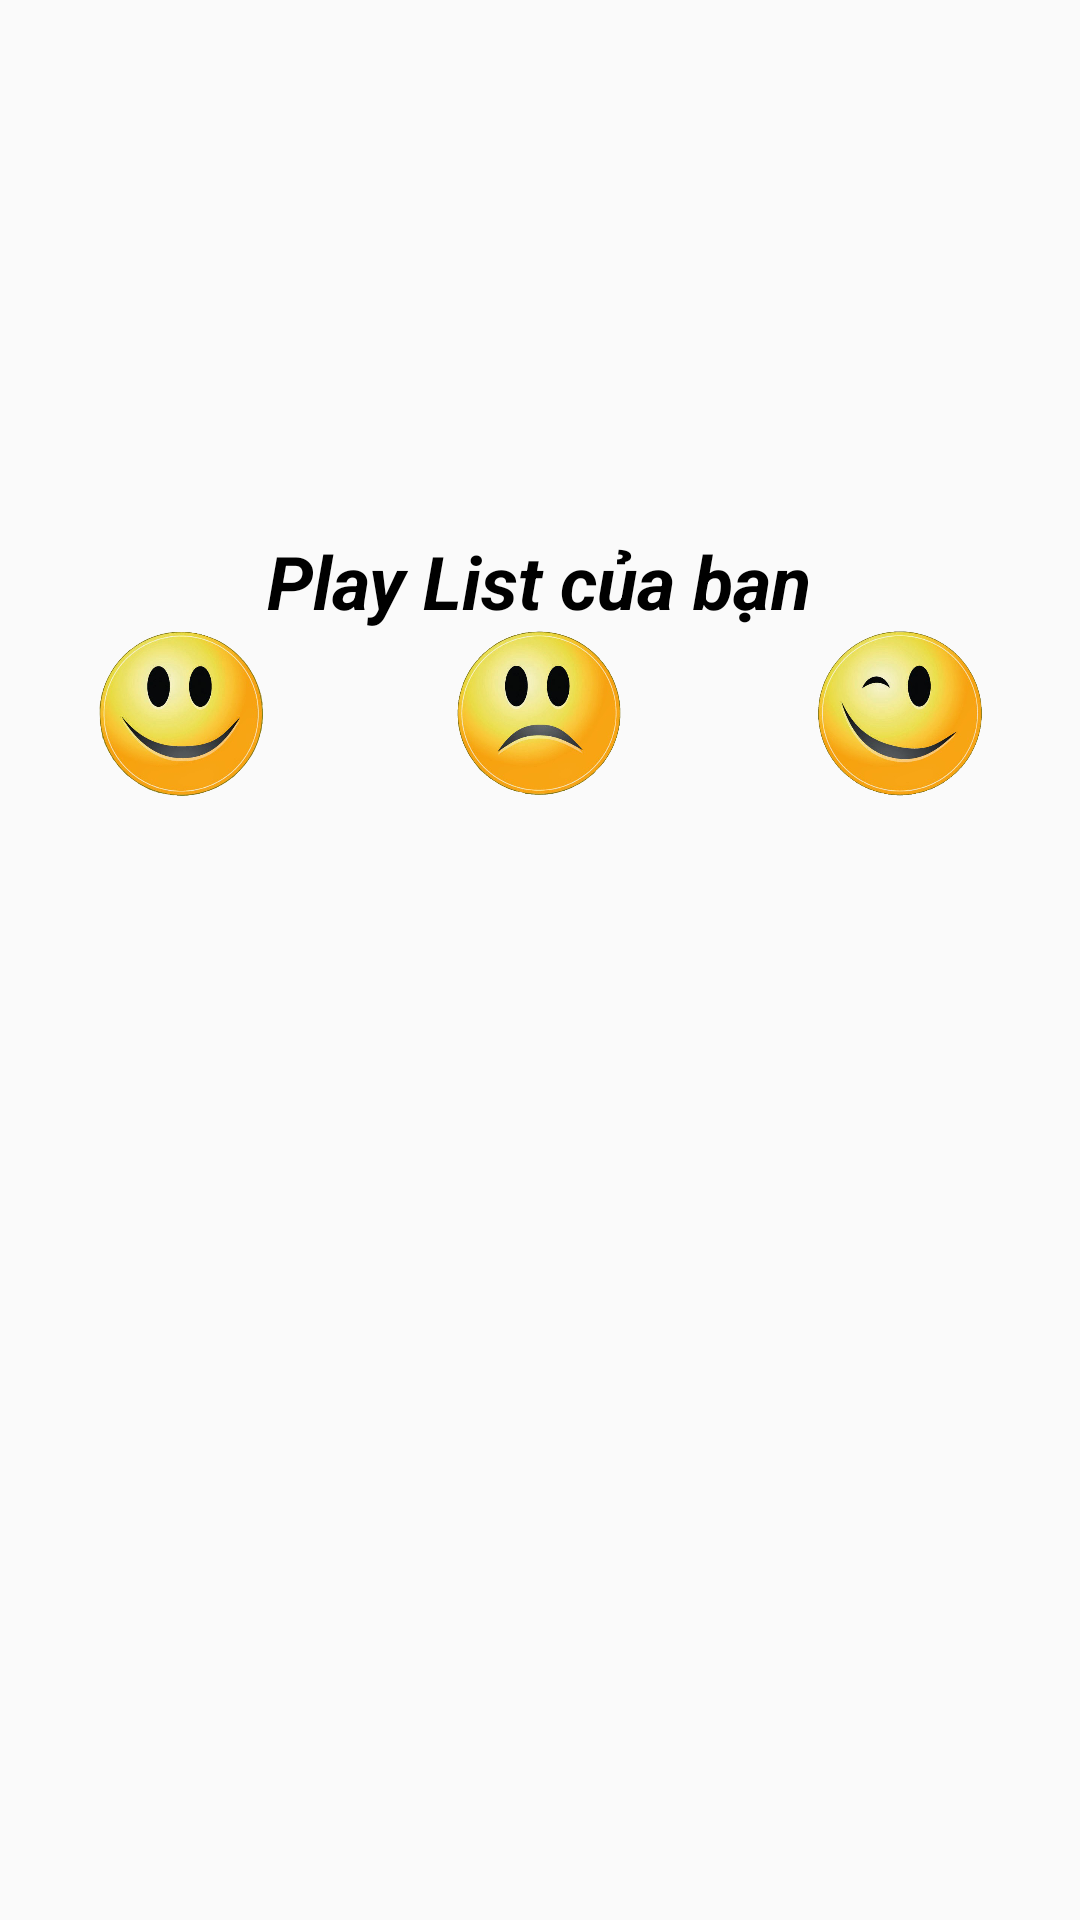

Where icons sit on this 1080 x 1920 app screen, as (x1, y1, x2, y2):
happy: (99, 632, 263, 796)
sad: (457, 631, 621, 795)
